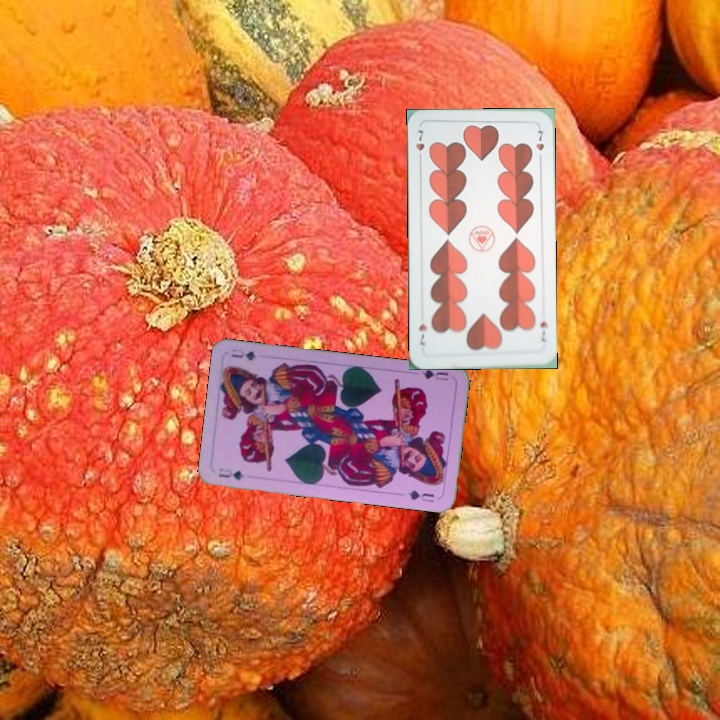GU: (215, 464, 247, 483), (418, 365, 451, 383)
H7: (412, 126, 427, 165), (536, 317, 550, 344)
